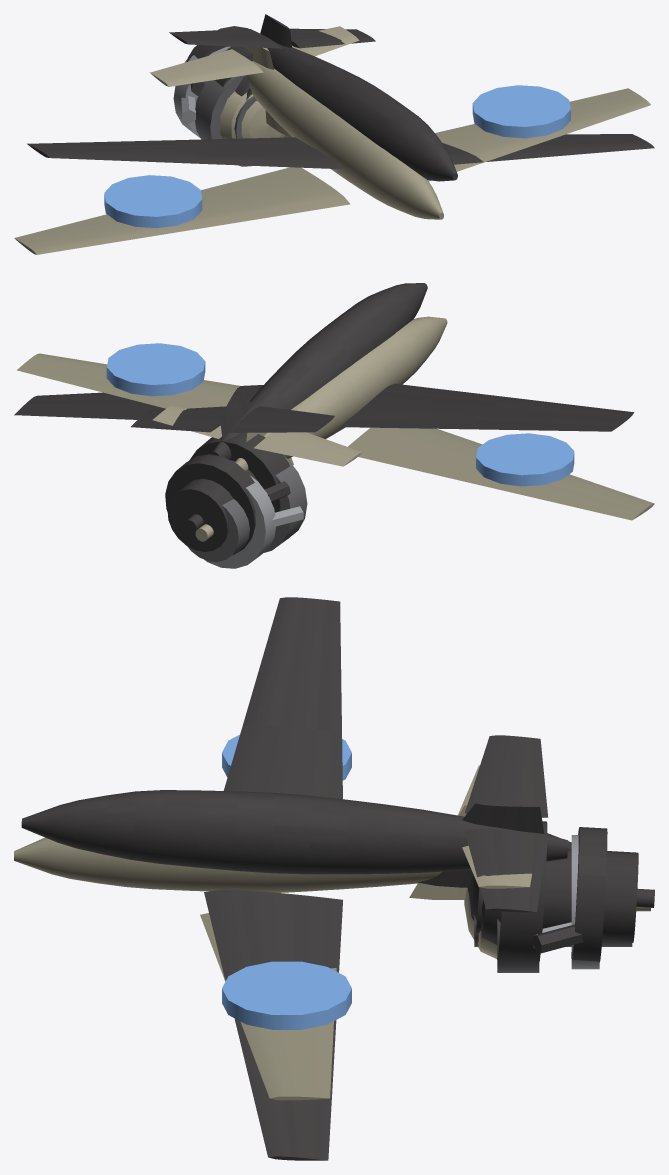
The model's file is loiterer__ch_901.glb.
3 renders of one model, top to bottom at view 1: azimuth 30°, elevation 25°; view 2: azimuth 150°, elevation 25°; view 3: azimuth 270°, elevation 25°, orthographic. The views are drawn at different scales.
Parts seen in each view (by area): view 1: Fuselage_Mesh, Wreck, Propeller_Mesh; view 2: Wreck, Fuselage_Mesh, Propeller_Mesh; view 3: Wreck, Fuselage_Mesh, Propeller_Mesh.
Part boxes in pixels (box(x1,y1,x2,y2)): Fuselage_Mesh: box(14, 26, 650, 254); Wreck: box(27, 14, 654, 181); Propeller_Mesh: box(173, 46, 292, 166); Wreck: box(14, 283, 634, 555); Fuselage_Mesh: box(17, 316, 654, 520); Propeller_Mesh: box(187, 456, 307, 568); Wreck: box(21, 597, 654, 1160); Fuselage_Mesh: box(14, 734, 531, 1100); Propeller_Mesh: box(464, 835, 650, 972).
Size of what is drawn, in the model's own units: 2.01 by 0.4408 by 1.38.
